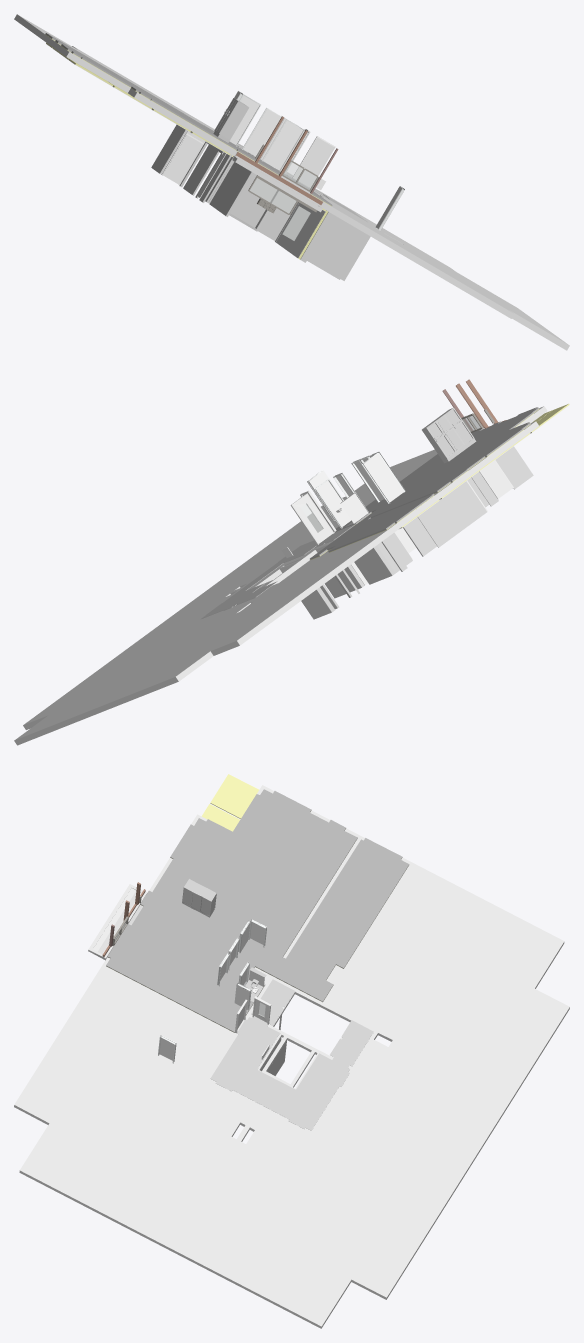
3 renders of one model, top to bottom at view 1: azimuth 30°, elevation 25°; view 2: azimuth 150°, elevation 25°; view 3: azimuth 270°, elevation 25°, orthographic. The views are drawn at different scales.
Visible parts, largest first — view 1: mesh; view 2: mesh; view 3: mesh.
Part boxes in pixels (x1,y1,x2,y2): mesh: (14,14,569,350); mesh: (14,379,569,745); mesh: (14,774,569,1328).
Size of what is drawn, in the model's own units: 27.85 by 21.94 by 31.61.
